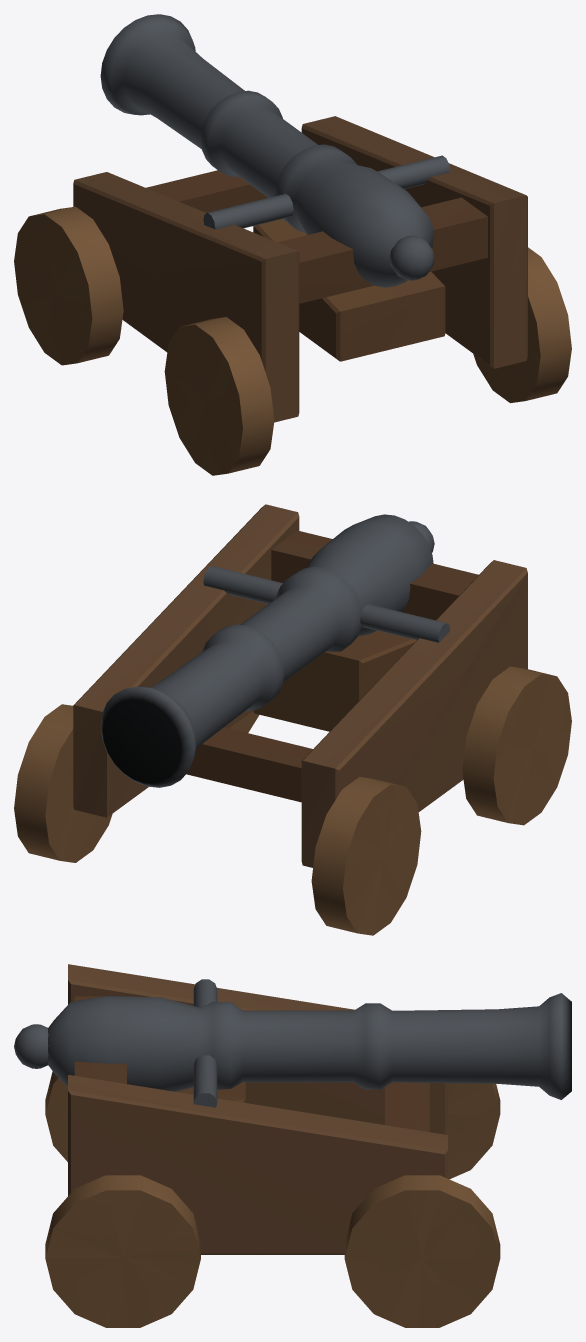
File: cannon.glb
The picture shows the model from 3 angles, top to bottom: view 1: azimuth 30°, elevation 25°; view 2: azimuth 150°, elevation 25°; view 3: azimuth 270°, elevation 25°; orthographic projection.
Visible parts, largest first — view 1: cannon-carriage, cannon-barrel; view 2: cannon-carriage, cannon-barrel; view 3: cannon-carriage, cannon-barrel.
Part boxes in pixels (left/top/right/bottom): cannon-carriage: left=14, top=116, right=571, bottom=475; cannon-barrel: left=100, top=14, right=450, bottom=287; cannon-carriage: left=14, top=504, right=571, bottom=935; cannon-barrel: left=100, top=514, right=450, bottom=787; cannon-carriage: left=45, top=964, right=500, bottom=1327; cannon-barrel: left=14, top=979, right=571, bottom=1107.
Bounding box in the file's own units: 0.252 × 0.1847 × 0.373.
